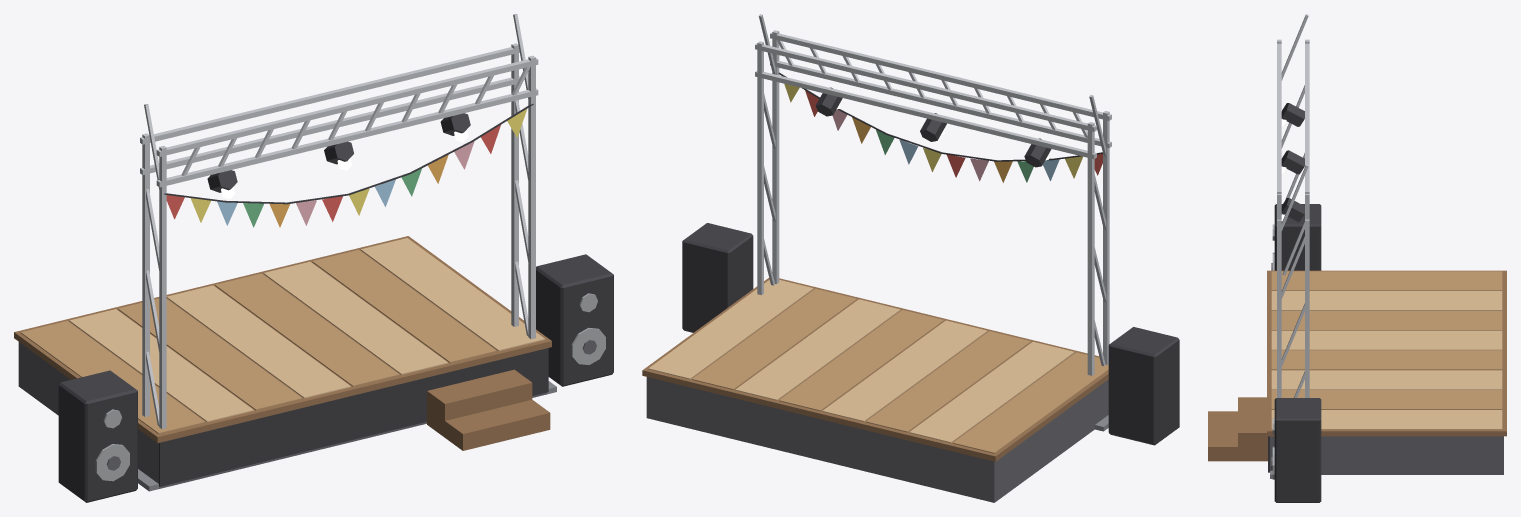
Rendered from prop_mini_stage_01.glb.
The picture shows the model from 3 angles, left to right: view 1: azimuth 30°, elevation 25°; view 2: azimuth 150°, elevation 25°; view 3: azimuth 270°, elevation 25°; orthographic projection. The views are drawn at different scales.
Parts seen in each view (by area): view 1: prop_mini_stage_01_body; view 2: prop_mini_stage_01_body; view 3: prop_mini_stage_01_body.
Part boxes in pixels (<box>): prop_mini_stage_01_body: <box>14,14,613,502</box>; prop_mini_stage_01_body: <box>642,14,1179,502</box>; prop_mini_stage_01_body: <box>1208,14,1506,502</box>.
Bounding box in the file's own units: 5.45 × 3.61 × 3.19.
